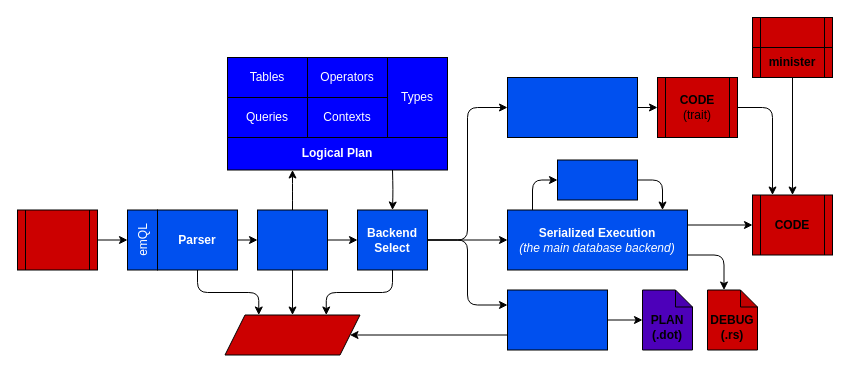
Image size: 850x373. Some labels were removed from this diagram. The shapes that lost their labels are listed below. From the top down, each one's centre as x and y in pixels, then its label:
At point (792, 32): "pulpit".
At point (572, 107): "Interface (generate trait to describe plan)".
At point (597, 179): "Table Generation".
At point (57, 239): "Rust Tokens".
At point (292, 239): "Semantic Analyser".
At point (292, 334): "Rust Diagnostics (Errors)".
At point (557, 319): "PlanViz (Plan Diagram)".
